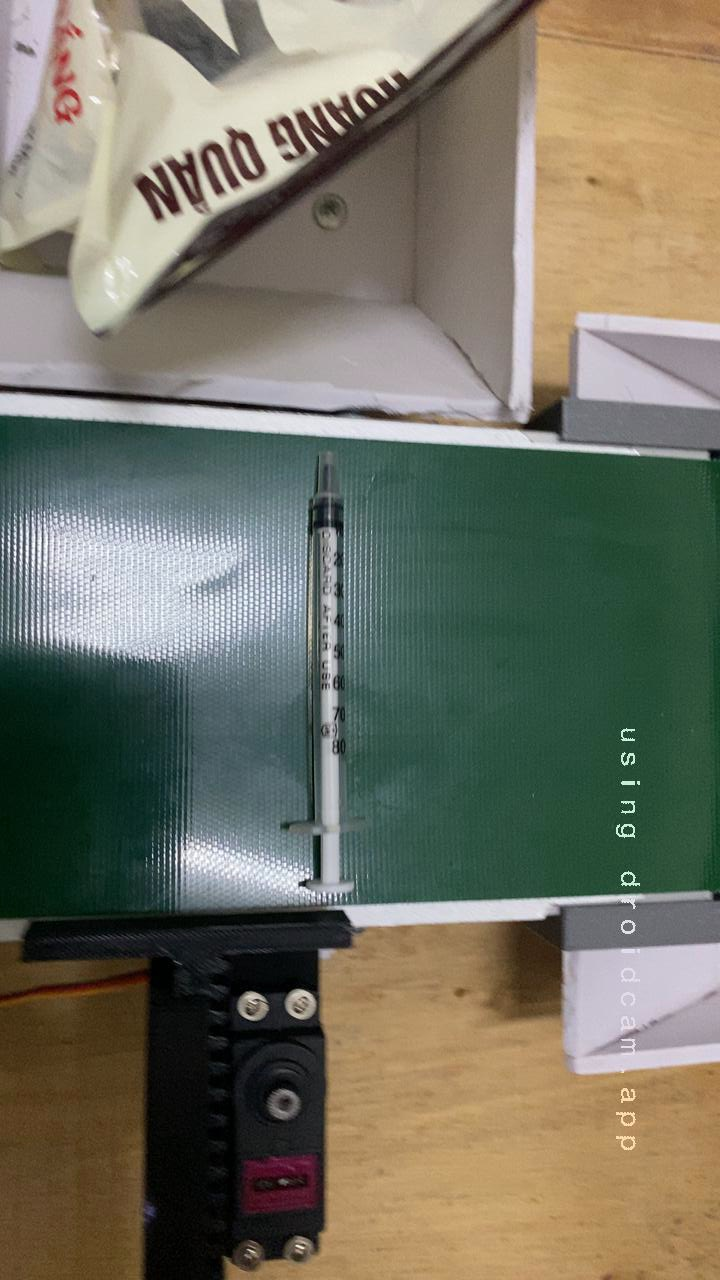syringe: (484, 448, 720, 919)
